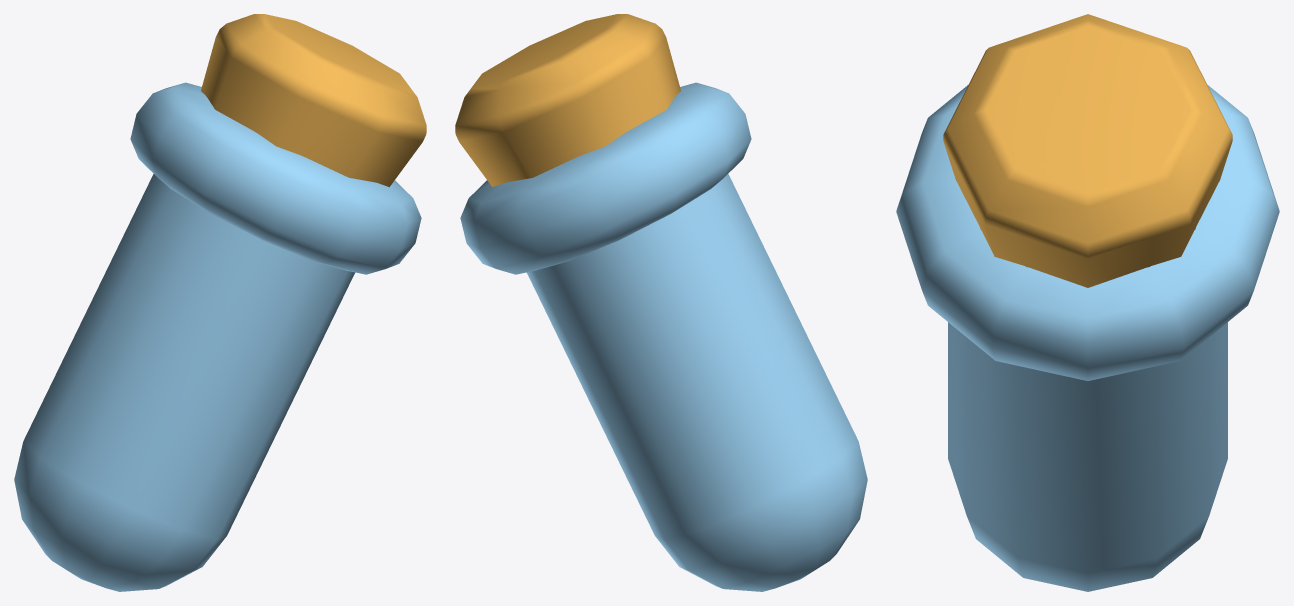
The picture shows the model from 3 angles, left to right: view 1: azimuth 30°, elevation 25°; view 2: azimuth 150°, elevation 25°; view 3: azimuth 270°, elevation 25°; orthographic projection. The views are drawn at different scales.
Parts seen in each view (by area): view 1: model_0.090; view 2: model_0.090; view 3: model_0.090.
Part boxes in pixels (box(x1,y1,x2,y2)): model_0.090: box(14, 14, 426, 591); model_0.090: box(455, 14, 867, 591); model_0.090: box(896, 14, 1279, 591).
Size of the model in its own units: 3.18 by 4.12 by 2.24.
